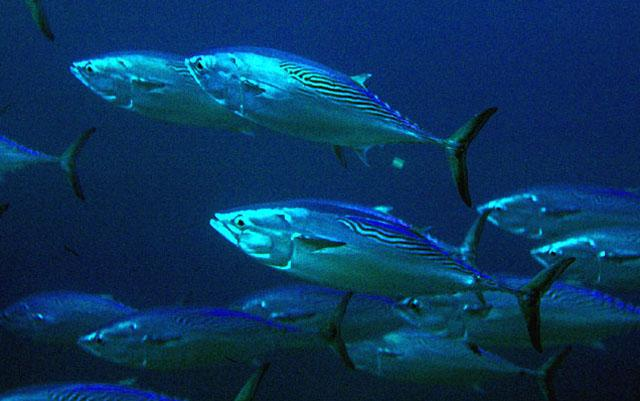Mulut: (206, 205, 238, 241), (60, 51, 88, 90), (177, 47, 203, 83), (70, 326, 96, 358)
Sirip Anal: (346, 138, 394, 174), (245, 346, 295, 380)
Sirip Dada: (296, 224, 350, 262), (123, 68, 171, 100), (238, 75, 274, 113)
Sirip Ekor: (436, 96, 500, 211), (511, 248, 577, 355), (315, 277, 371, 370), (59, 114, 109, 206)
Sirip Punggung: (346, 66, 382, 102), (366, 192, 398, 228), (166, 283, 210, 309)
